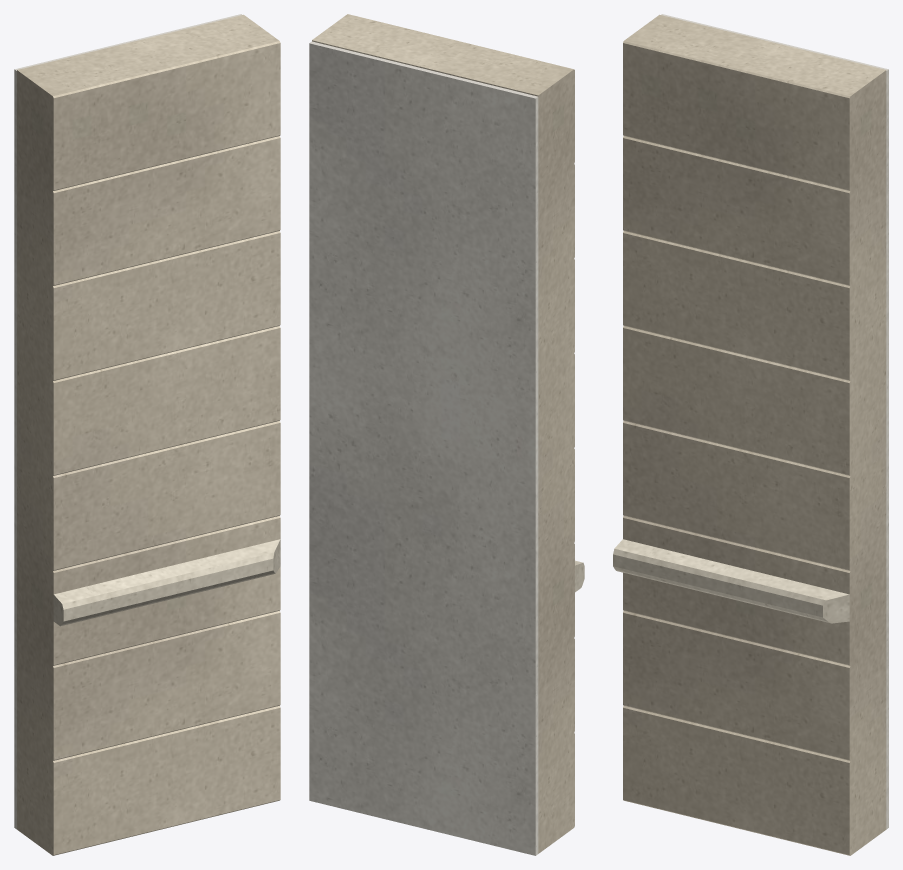
File: pv_side_u2_r.glb
3 views of the same model, side by side, from view 1: azimuth 30°, elevation 25°; view 2: azimuth 150°, elevation 25°; view 3: azimuth 330°, elevation 25° (orthographic).
Parts seen in each view (by area): view 1: pv_side_u2_r_ashlar, pv_side_u2_r_trim, pv_side_u2_r_plaster; view 2: pv_side_u2_r_plaster, pv_side_u2_r_ashlar; view 3: pv_side_u2_r_ashlar, pv_side_u2_r_trim, pv_side_u2_r_plaster.
Boxes of the visible parts, x1,y1,x2,y2 form: pv_side_u2_r_ashlar: (17,14,280,855); pv_side_u2_r_trim: (53,539,280,626); pv_side_u2_r_plaster: (14,14,241,829); pv_side_u2_r_plaster: (309,41,538,855); pv_side_u2_r_ashlar: (312,14,574,853); pv_side_u2_r_ashlar: (623,14,886,855); pv_side_u2_r_trim: (613,539,849,623); pv_side_u2_r_plaster: (661,14,888,829).
Bounding box in the file's own units: 1 × 3.2 × 0.375.
3 materials, 3 textured.
